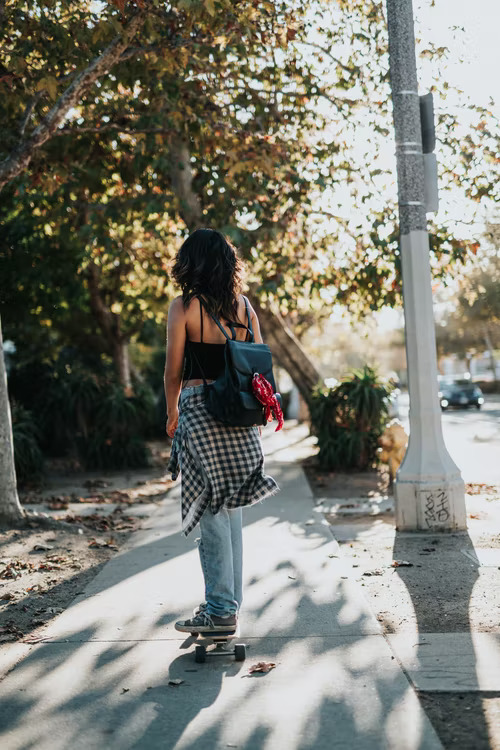person: (163, 229, 265, 632)
